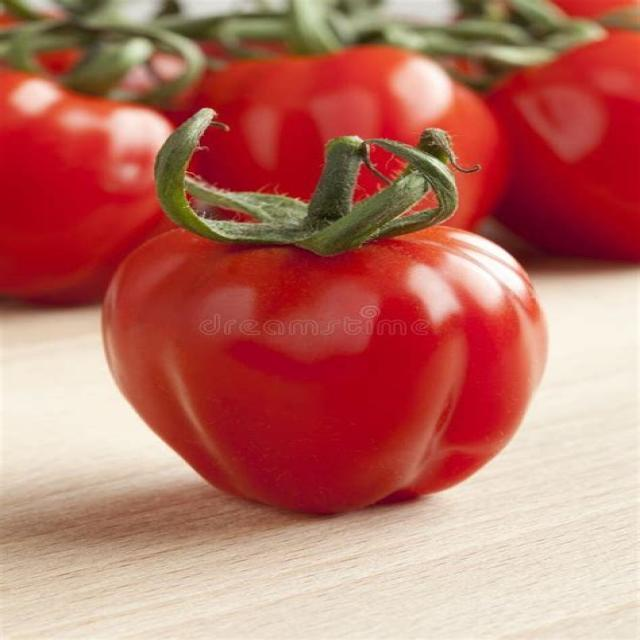Tomato: (101, 225, 550, 518)
